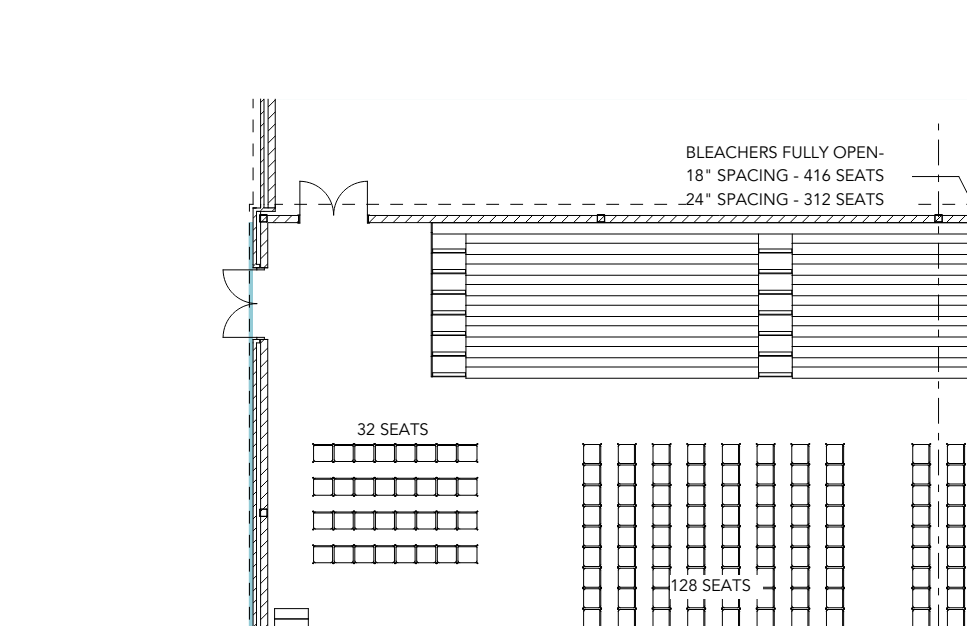double door: (292, 178, 376, 233), (216, 267, 276, 341)
